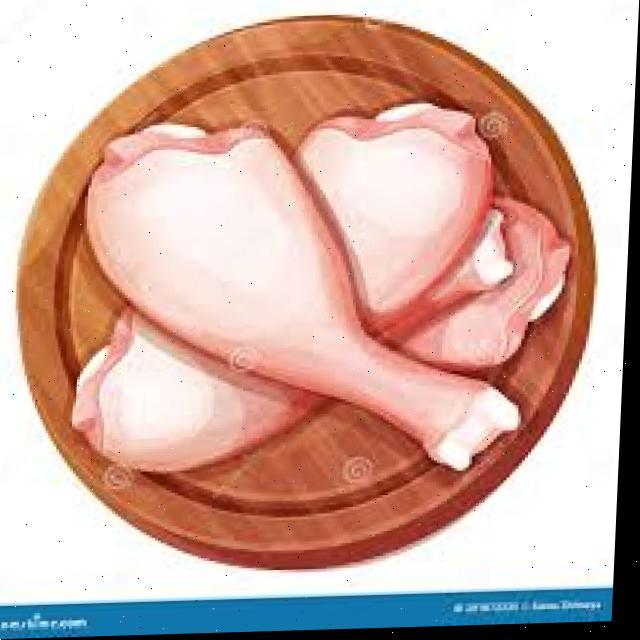leg: (80, 115, 518, 486), (92, 216, 510, 460), (276, 88, 483, 333), (407, 194, 580, 383)
